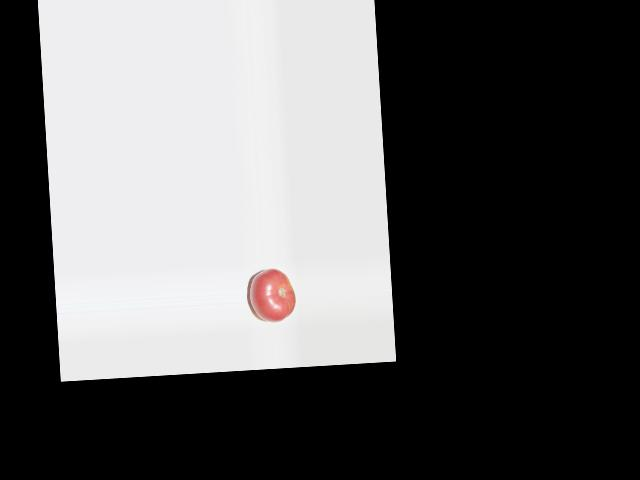tomato: (249, 267, 297, 324)
